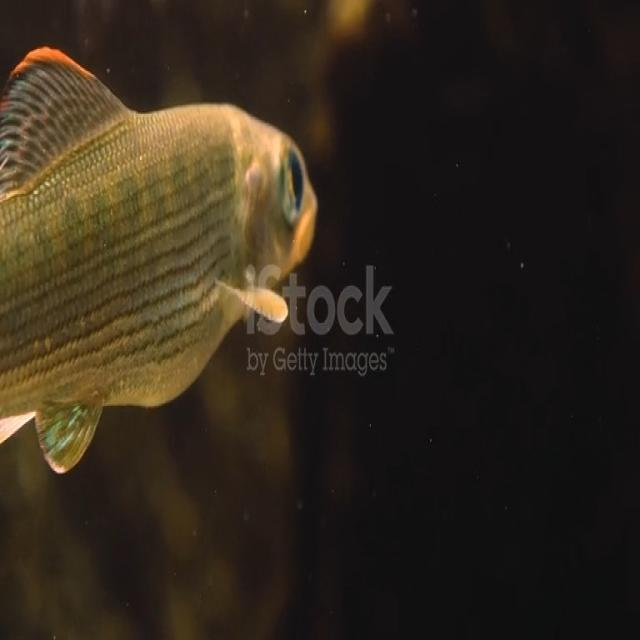fish: (0, 51, 322, 488)
